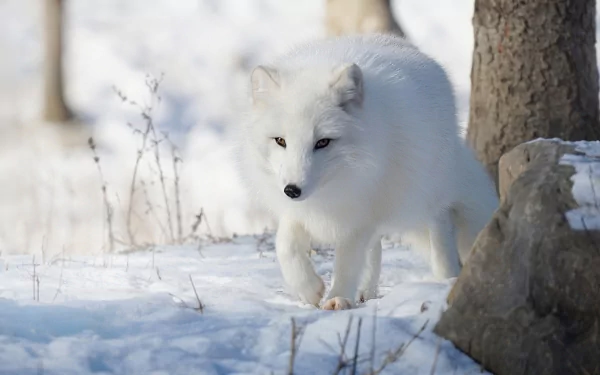arcticfox: (253, 107, 358, 230)
